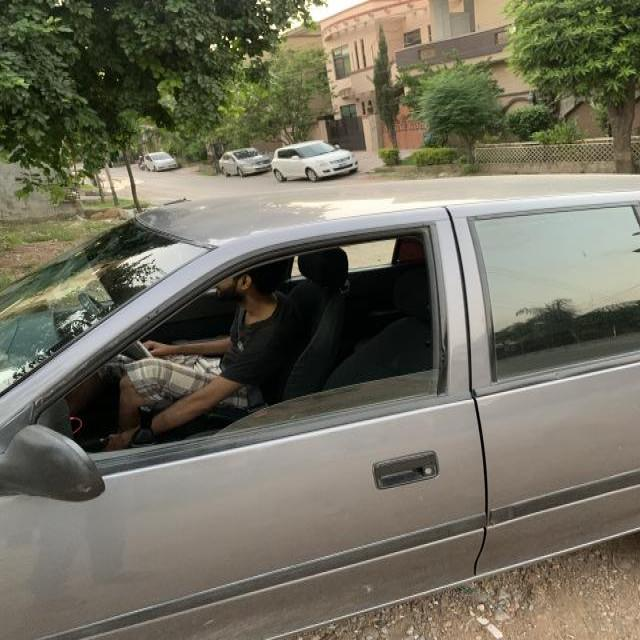seatbelt: (147, 289, 315, 444)
